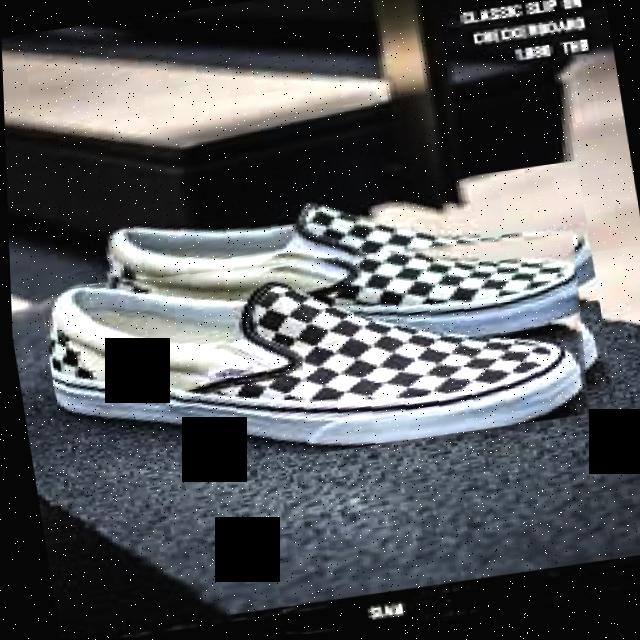shoe: (18, 162, 616, 502), (35, 216, 600, 490)
